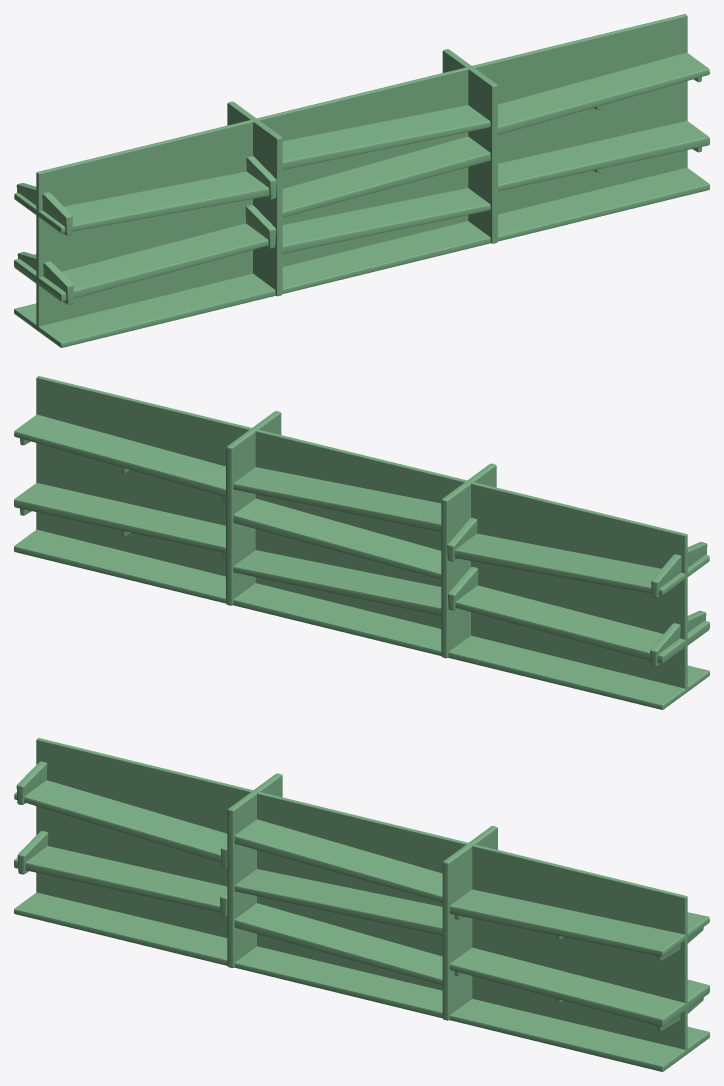
The model's file is SM_shelves_01.fbx.
3 renders of one model, top to bottom at view 1: azimuth 30°, elevation 25°; view 2: azimuth 150°, elevation 25°; view 3: azimuth 330°, elevation 25°, orthographic.
Visible parts, largest first — view 1: middle1, middle2, middle, shelf_06, shelf_05, shelf_11, shelf_03, shelf_09, shelf_07, shelf_02, shelf_10, shelf_04 (+6 smaller); view 2: middle1, middle2, middle, shelf_06, shelf_05, shelf_11, shelf_03, shelf_09, shelf_07, shelf_02, shelf_10, shelf_04 (+6 smaller); view 3: middle2, middle1, middle, shelf_09, shelf_11, shelf_10, shelf_04, shelf_02, shelf_07, shelf_06, shelf_03, shelf_01 (+4 smaller).
Part boxes in pixels (x1,y1,x2,y2): middle1: [36, 119, 253, 330]; middle2: [471, 14, 687, 214]; middle: [254, 67, 469, 266]; shelf_06: [14, 273, 275, 347]; shelf_05: [14, 223, 268, 301]; shelf_11: [498, 52, 709, 134]; shelf_03: [282, 136, 490, 217]; shelf_09: [498, 121, 709, 190]; shelf_07: [14, 171, 269, 233]; shelf_02: [282, 188, 490, 253]; shelf_10: [498, 167, 709, 241]; shelf_04: [282, 105, 490, 169]; middle1: [470, 481, 687, 692]; middle2: [36, 376, 252, 576]; middle: [254, 429, 469, 628]; shelf_06: [448, 635, 709, 709]; shelf_05: [455, 585, 709, 663]; shelf_11: [14, 414, 225, 496]; shelf_03: [233, 498, 441, 579]; shelf_09: [14, 483, 225, 552]; shelf_07: [454, 533, 709, 595]; shelf_02: [233, 550, 441, 615]; shelf_10: [14, 529, 225, 603]; shelf_04: [233, 467, 441, 531]; middle2: [471, 844, 687, 1054]; middle1: [36, 738, 253, 937]; middle: [254, 791, 468, 990]; shelf_09: [449, 947, 709, 1026]; shelf_11: [449, 889, 709, 956]; shelf_10: [449, 999, 709, 1071]; shelf_04: [234, 819, 442, 902]; shelf_02: [234, 903, 442, 985]; shelf_07: [14, 780, 227, 862]; shelf_06: [14, 892, 227, 965]; shelf_03: [234, 869, 442, 935]; shelf_01: [234, 946, 442, 1018].
Size of the model in its own units: 1500 by 350 by 200.
